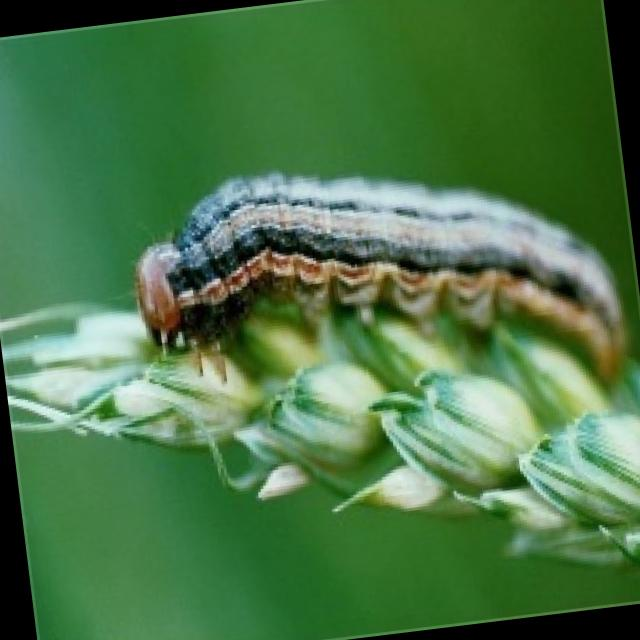armyworm: (95, 112, 640, 454)
